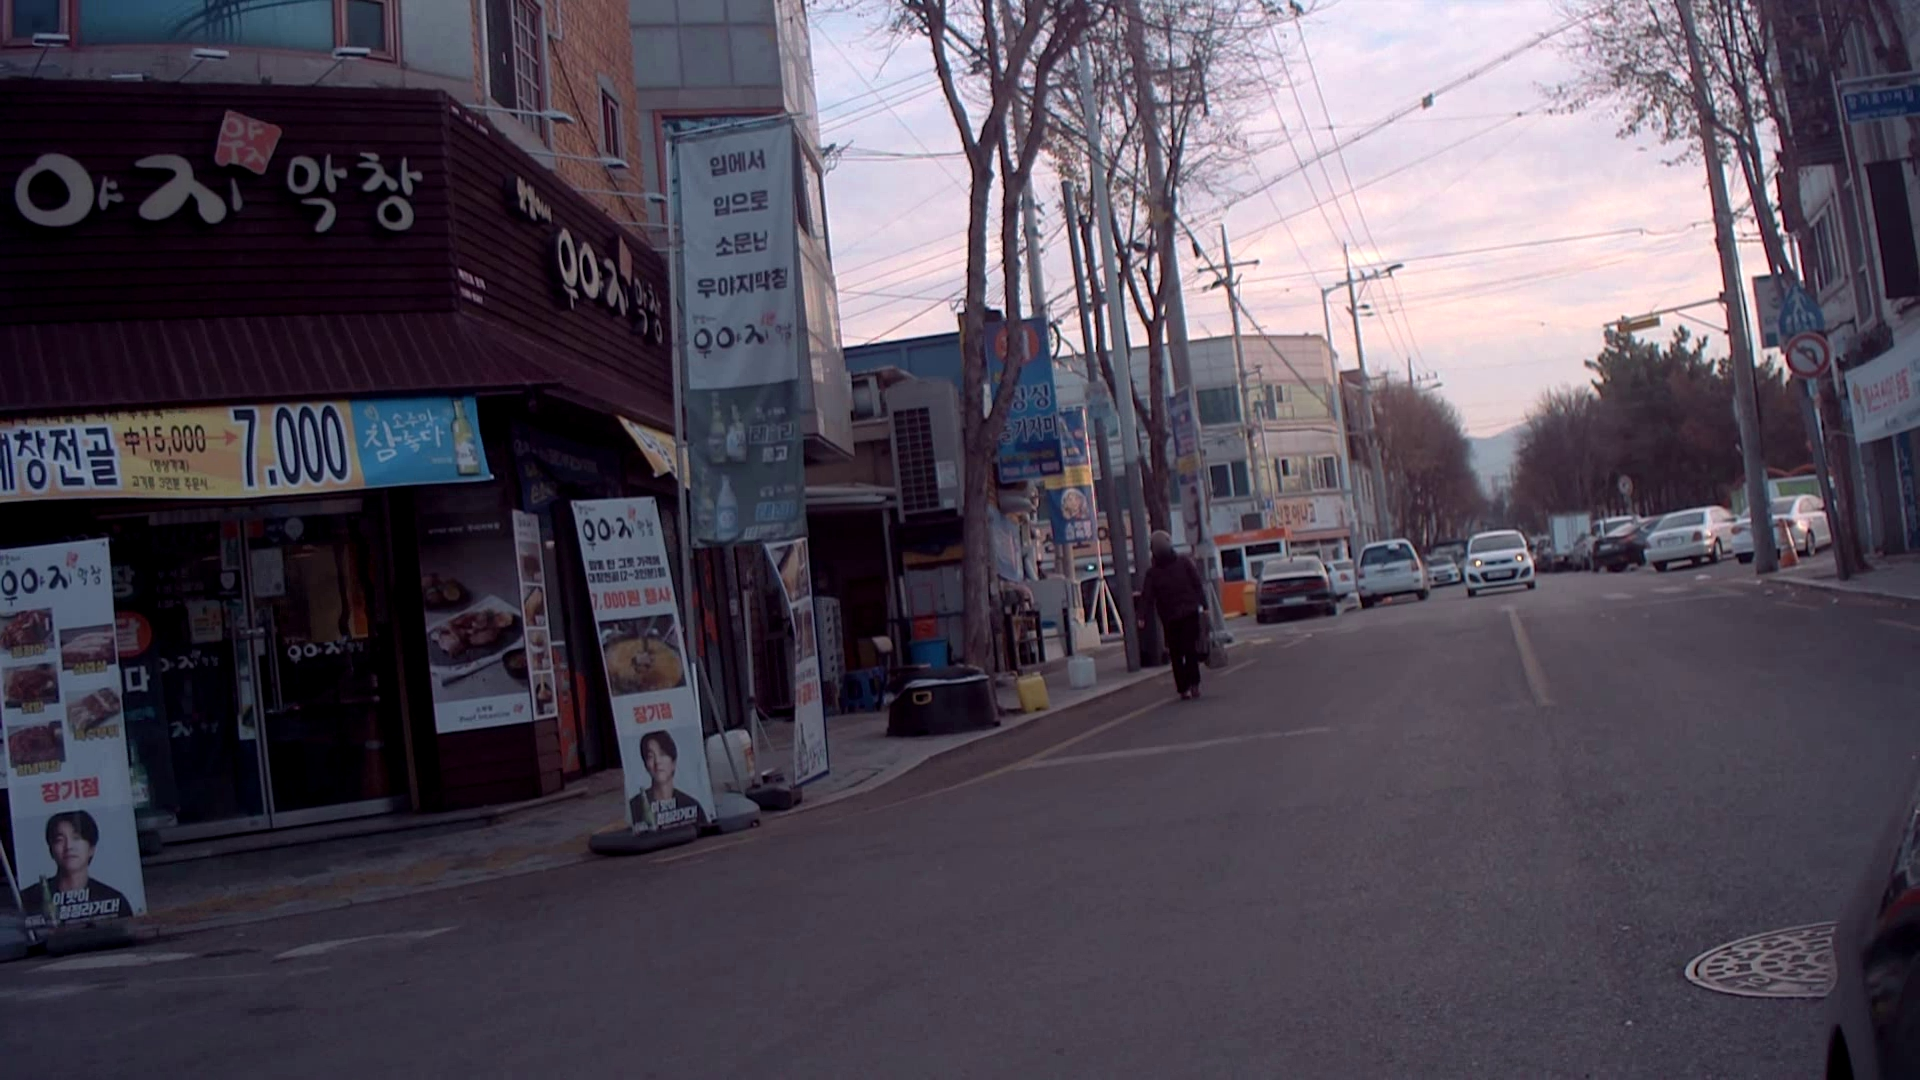trafficSignCircle: (1788, 338, 1832, 382)
trafficSignTri: (1774, 280, 1826, 334)
